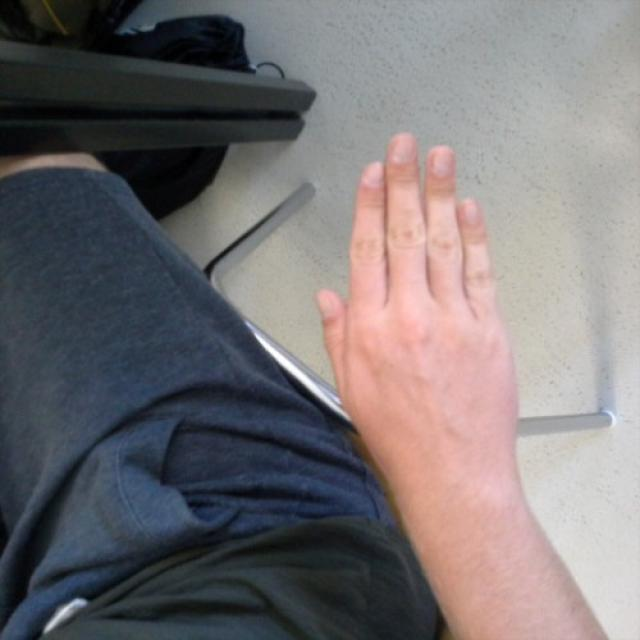paper: (312, 131, 520, 446)
